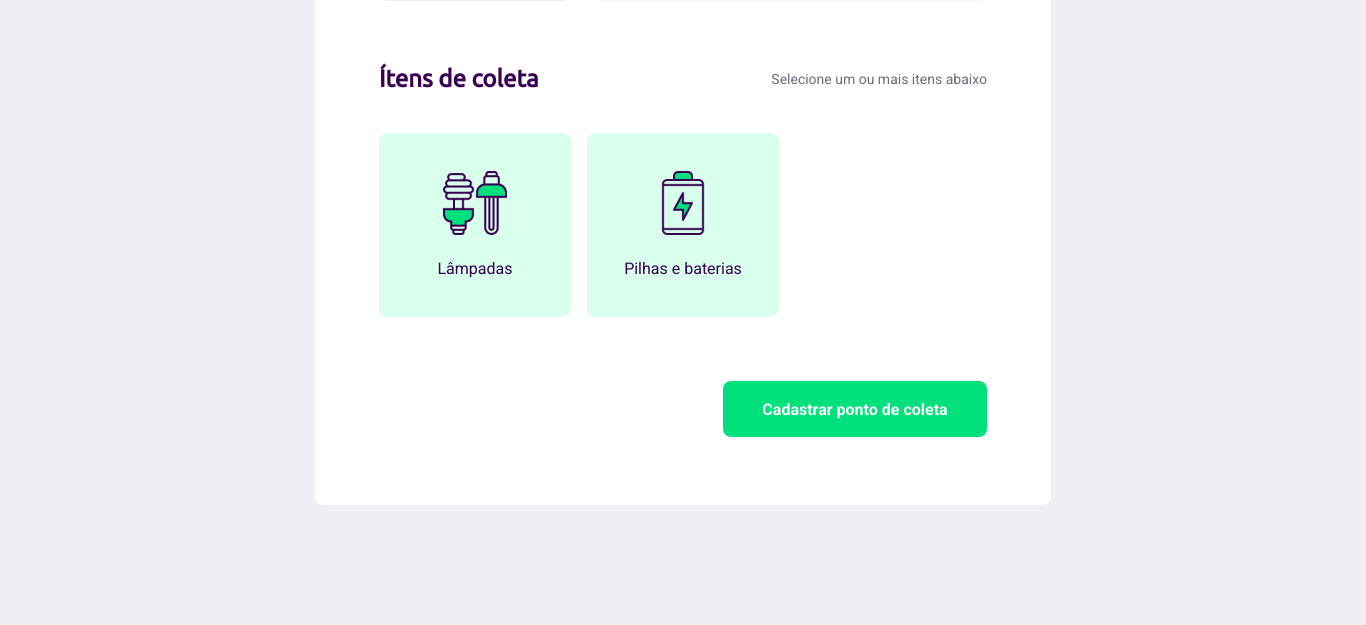
Test: fluxos do Ecoleta › bloqueia o envio duplicado enquanto a requisição está pendente
(page scrolled)
Double-click the button "Cadastrar ponto de coleta" at (855,409), box [723, 381, 987, 437]
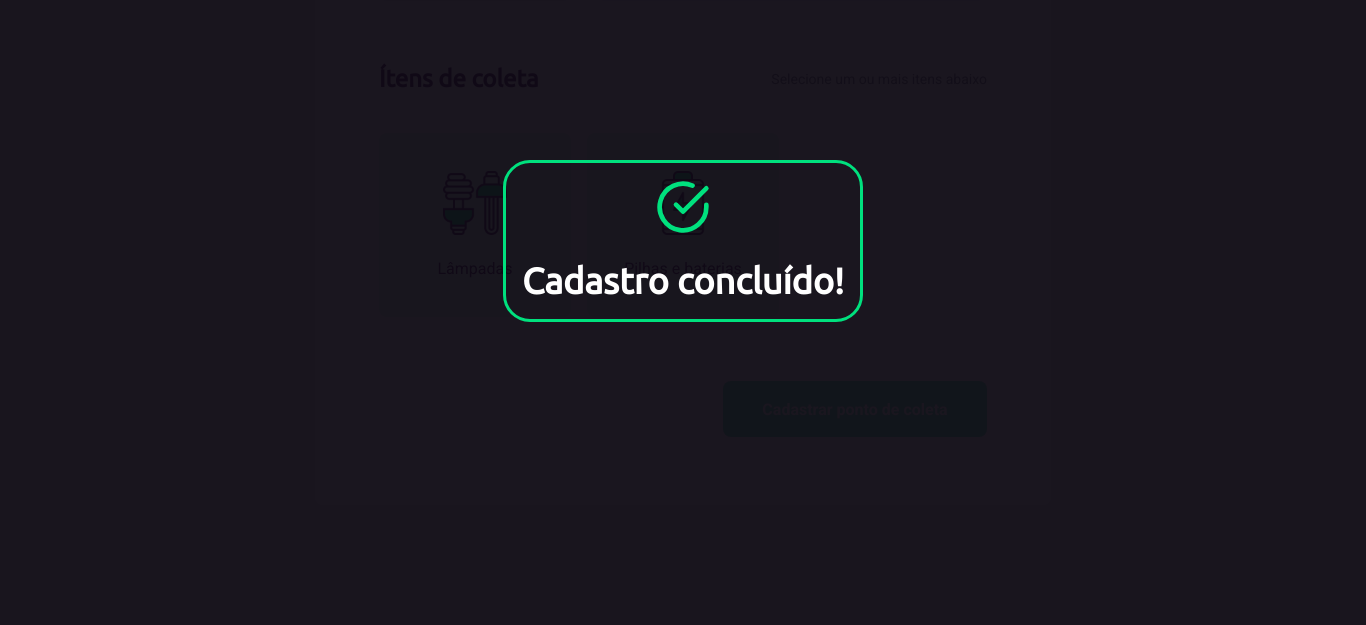
Check: the dialog "Cadastro concluído!" is shown, box [522, 179, 1307, 303]
